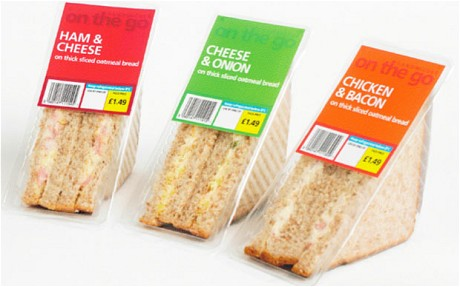sandwich: (220, 34, 443, 284), (137, 10, 303, 253), (5, 1, 153, 230)
